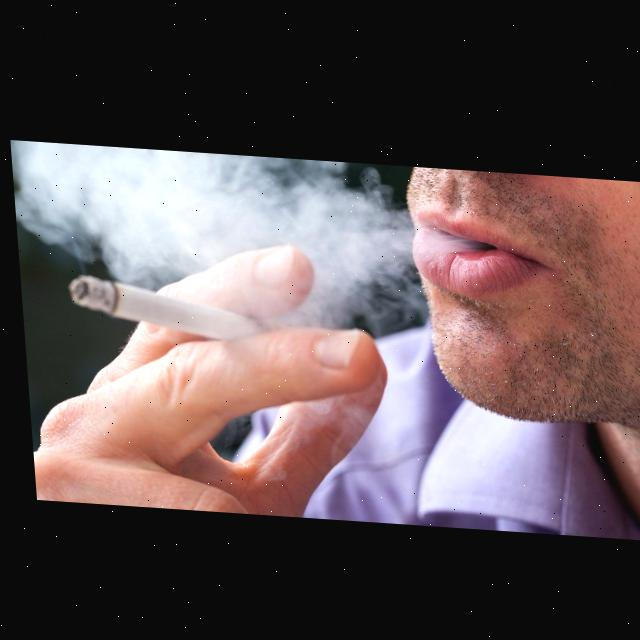cigarette: (63, 274, 258, 339)
